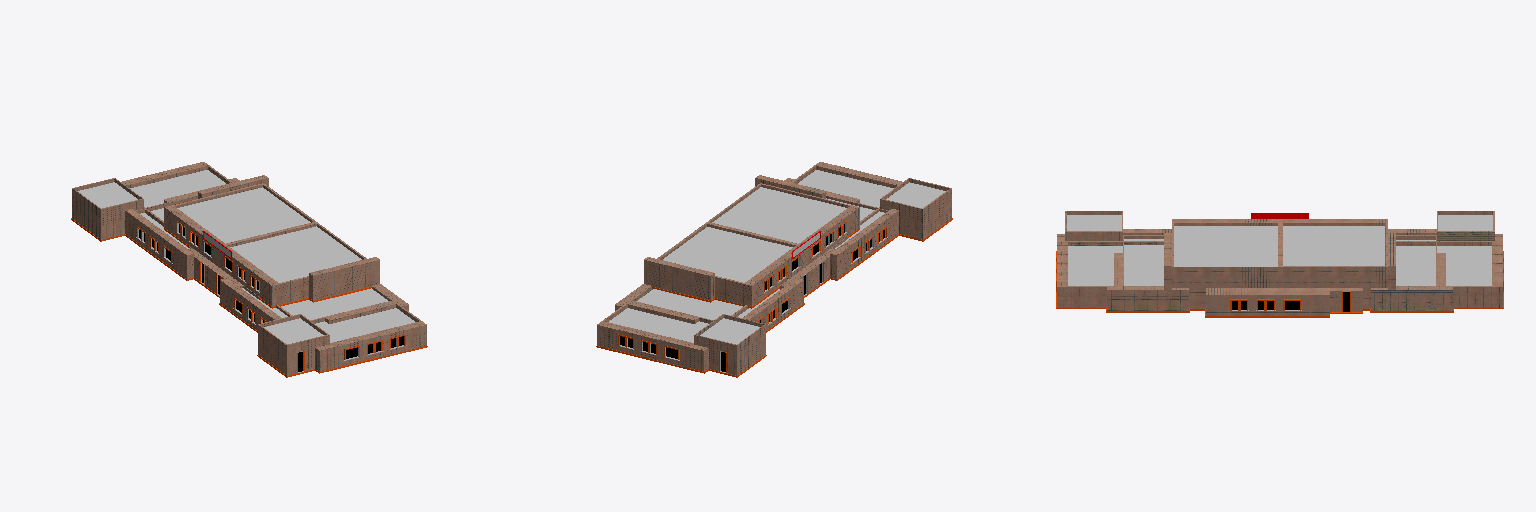
3 views of the same model, side by side, from view 1: azimuth 30°, elevation 25°; view 2: azimuth 150°, elevation 25°; view 3: azimuth 270°, elevation 25° (orthographic).
Parts seen in each view (by area): view 1: building03.obj; view 2: building03.obj; view 3: building03.obj.
Boxes of the visible parts, box(x1,y1,x2,y2) form: building03.obj: box(71, 162, 427, 377); building03.obj: box(596, 162, 952, 377); building03.obj: box(1056, 211, 1503, 317).
Size of the model in its own units: 215 by 64.32 by 541.
7 materials, 1 textured.